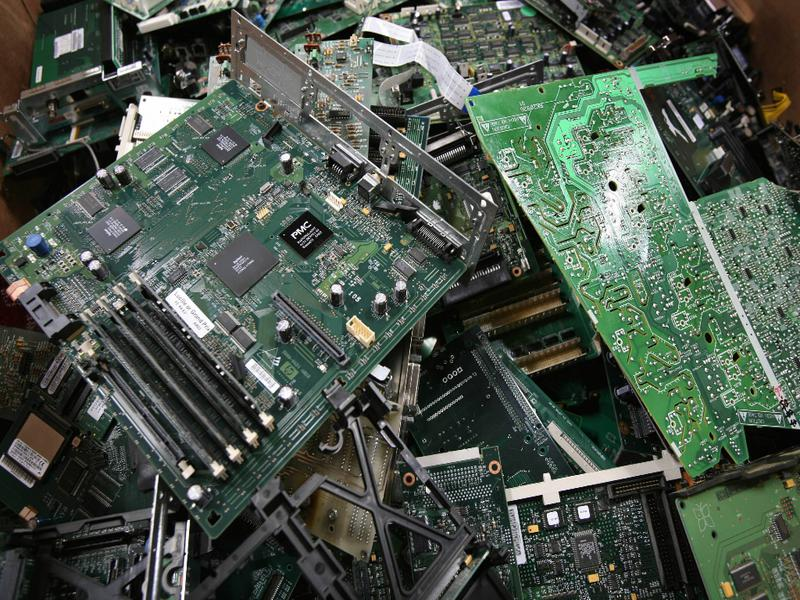circuit_board: (6, 8, 501, 540), (453, 54, 800, 481), (401, 324, 623, 474), (492, 447, 696, 600), (665, 451, 800, 600)
